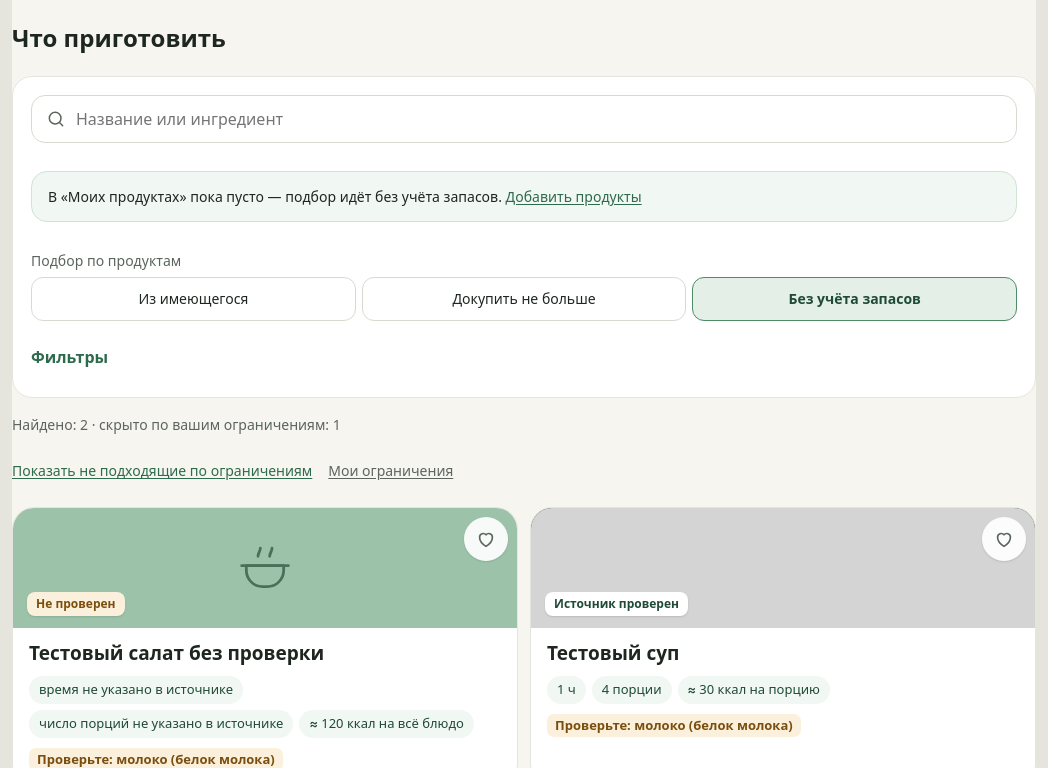
Test case: строгий отбор › аллергия на молоко: каша скрыта, суп помечен; показать скрытые — с пометкой
Check: the message shows "скрыто по вашим ограничениям: 1", box [88,415,341,434]
Click the button "Показать не подходящие по ограничениям": click(162, 471) [12,449,312,493]
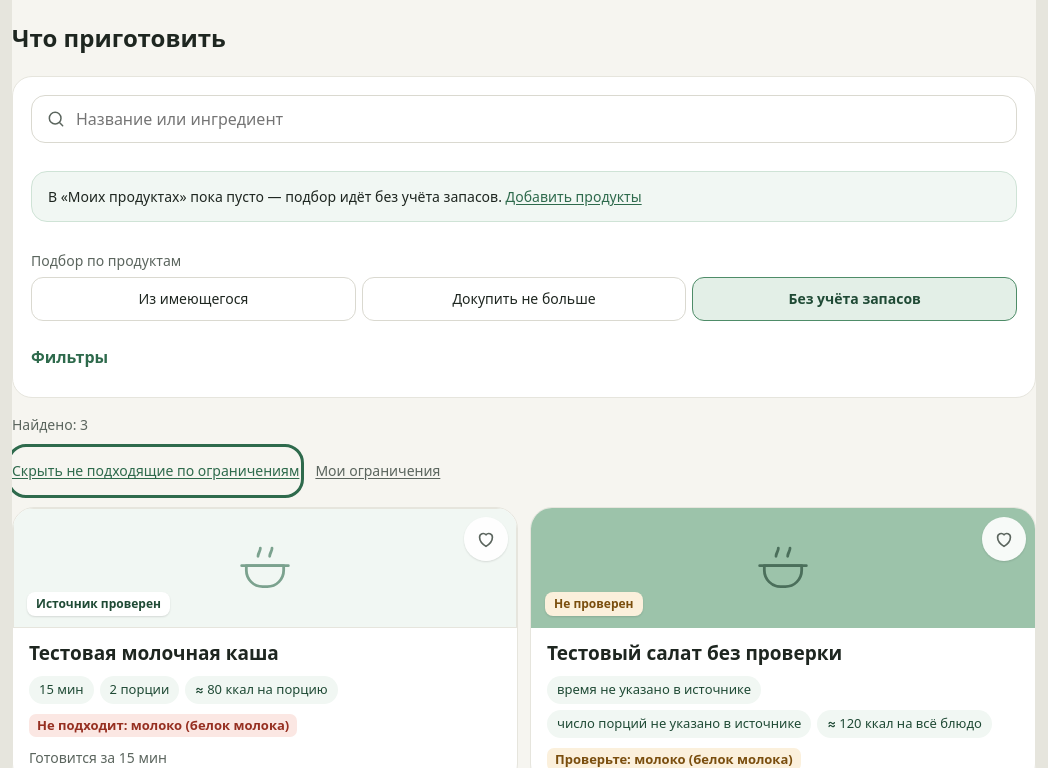
Click the button "Скрыть не подходящие по ограничениям": click(156, 471) [12,449,299,493]
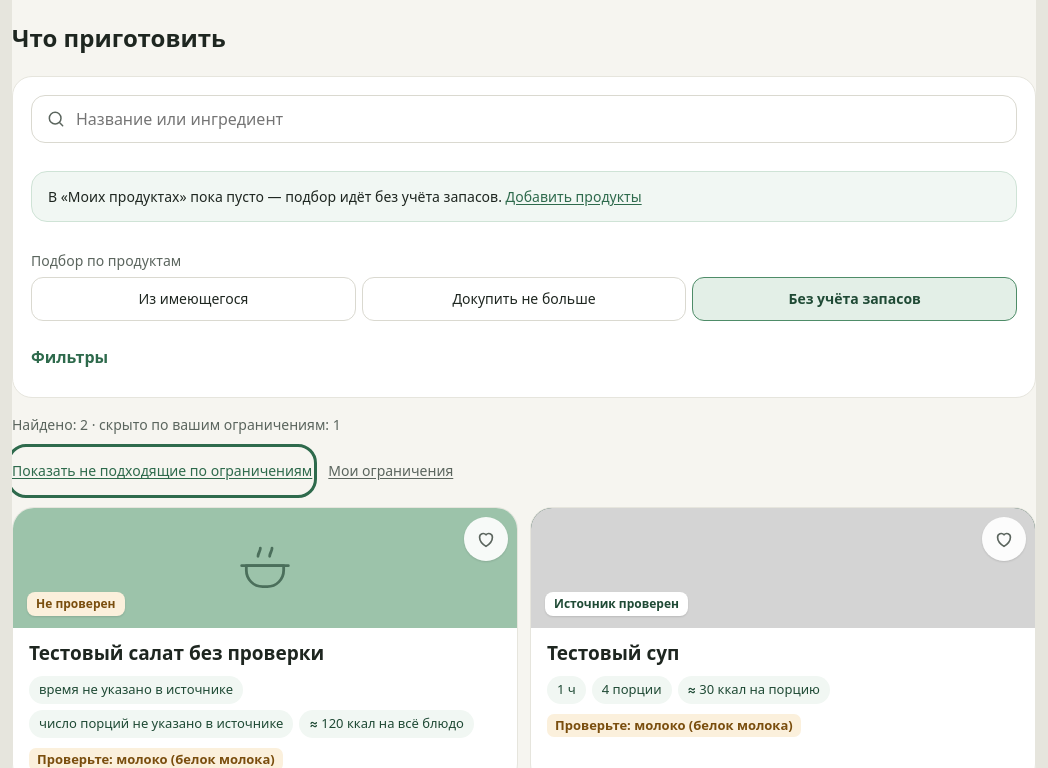
Check: the link "Тестовая молочная каша" no longer shows "Тестовая молочная каша"
